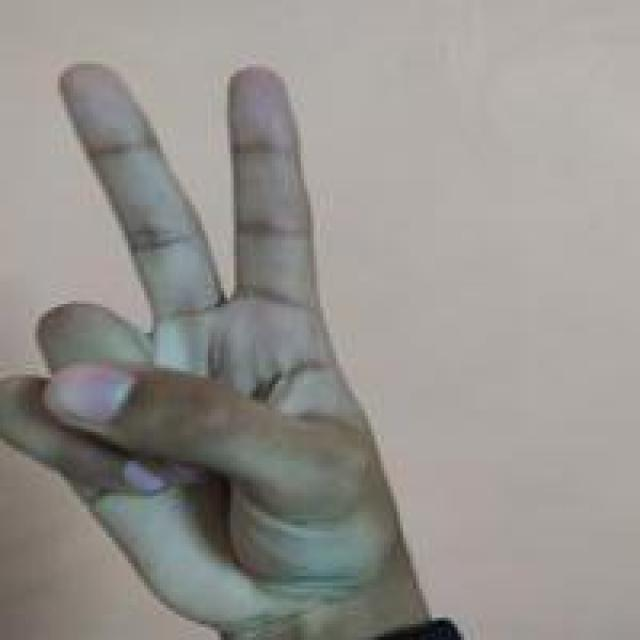V: (5, 54, 408, 640)
